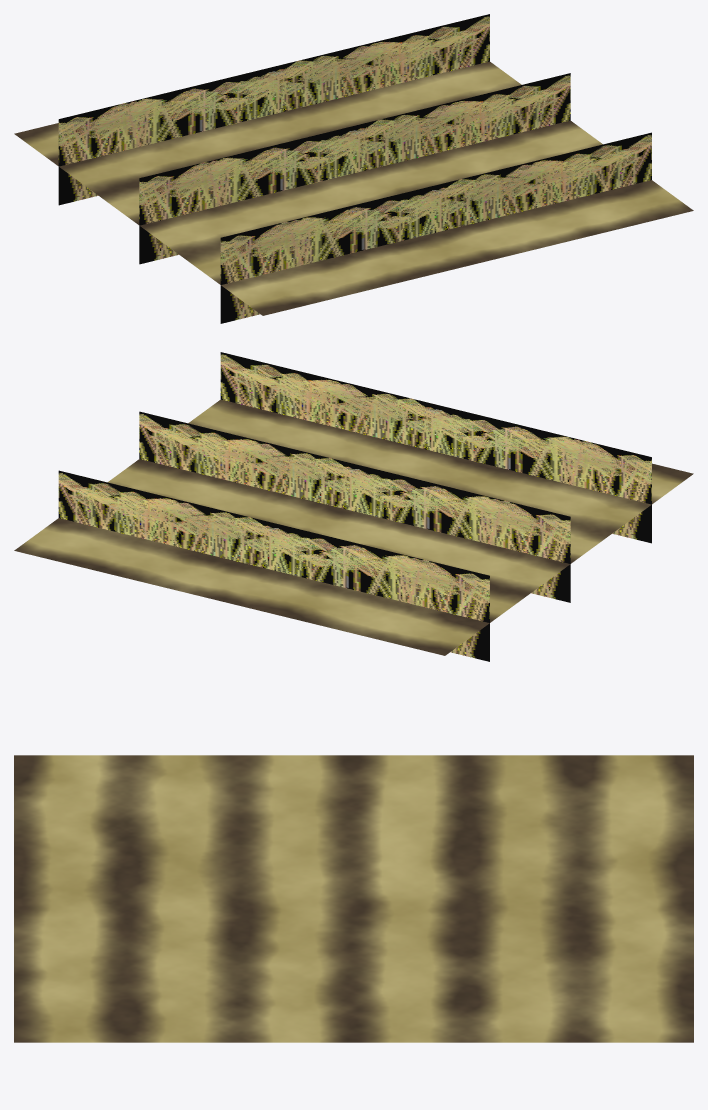
Rendered from Crop_Barley_1_LOD1.gltf.
3 renders of one model, top to bottom at view 1: azimuth 30°, elevation 25°; view 2: azimuth 150°, elevation 25°; view 3: azimuth 270°, elevation 25°, orthographic. The views are drawn at different scales.
Visible parts, largest first — view 1: Crop_Barley_1_LOD1; view 2: Crop_Barley_1_LOD1; view 3: Crop_Barley_1_LOD1.
Part boxes in pixels (x1=…): Crop_Barley_1_LOD1: x1=14, y1=14, x2=693, y2=323; Crop_Barley_1_LOD1: x1=14, y1=352, x2=693, y2=661; Crop_Barley_1_LOD1: x1=14, y1=755, x2=693, y2=1042.
Size of the model in its own units: 4 by 0.7647 by 4.
Materials: 2 (2 with a texture image).
